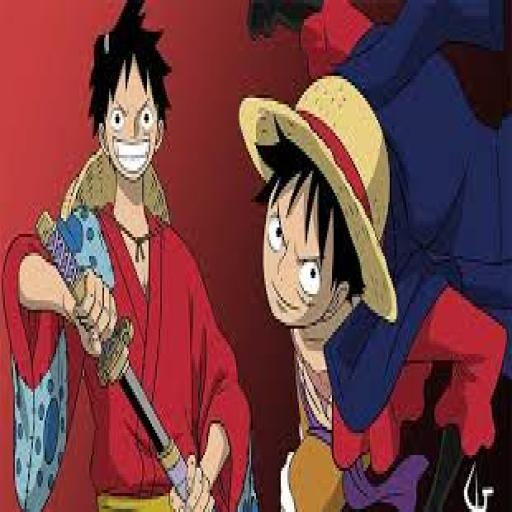luffy: (239, 0, 509, 509), (3, 0, 253, 509), (439, 319, 505, 452)
